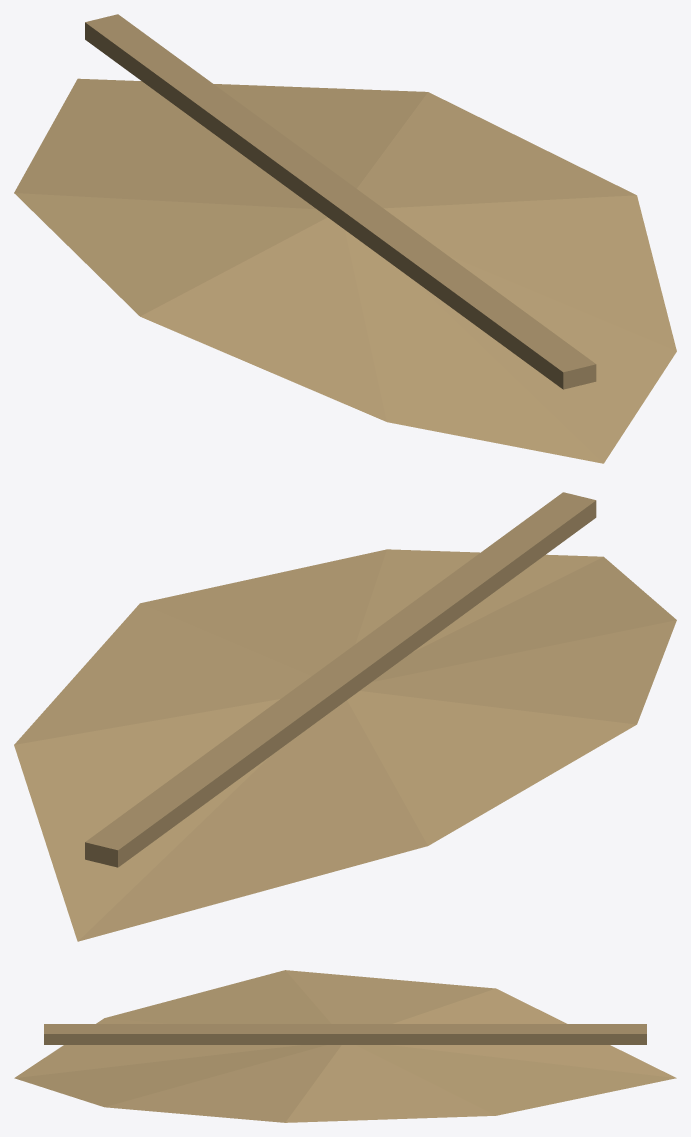
The model's file is dry_leaf_0.gltf.
3 views of the same model, one above another, from view 1: azimuth 30°, elevation 25°; view 2: azimuth 150°, elevation 25°; view 3: azimuth 270°, elevation 25° (orthographic). The views are drawn at different scales.
Visible parts, largest first — view 1: dry_leaf_0; view 2: dry_leaf_0; view 3: dry_leaf_0.
Part boxes in pixels (left/top/right/bottom): dry_leaf_0: left=14, top=14, right=676, bottom=463; dry_leaf_0: left=14, top=492, right=676, bottom=941; dry_leaf_0: left=14, top=970, right=676, bottom=1122.
Bounding box in the file's own units: 0.12 × 0.018 × 0.22.
